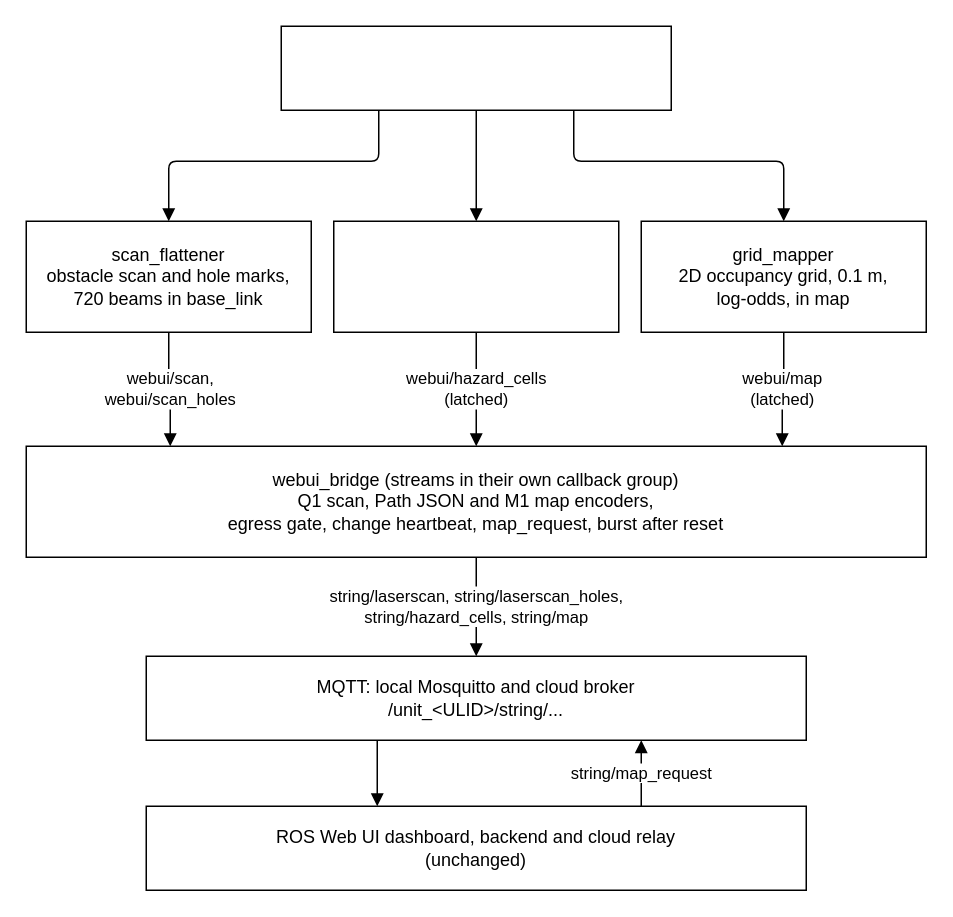
This 953x917 diagram has some shape labels left out. The centre of each missing label's shape, as x and y in pixels:
/terrain_map_ext (CMU terrain_analysis_ext, frame map): point (475, 67)
hole_trail every hole cell of this run, 0.10 m cells in map: point (475, 276)
